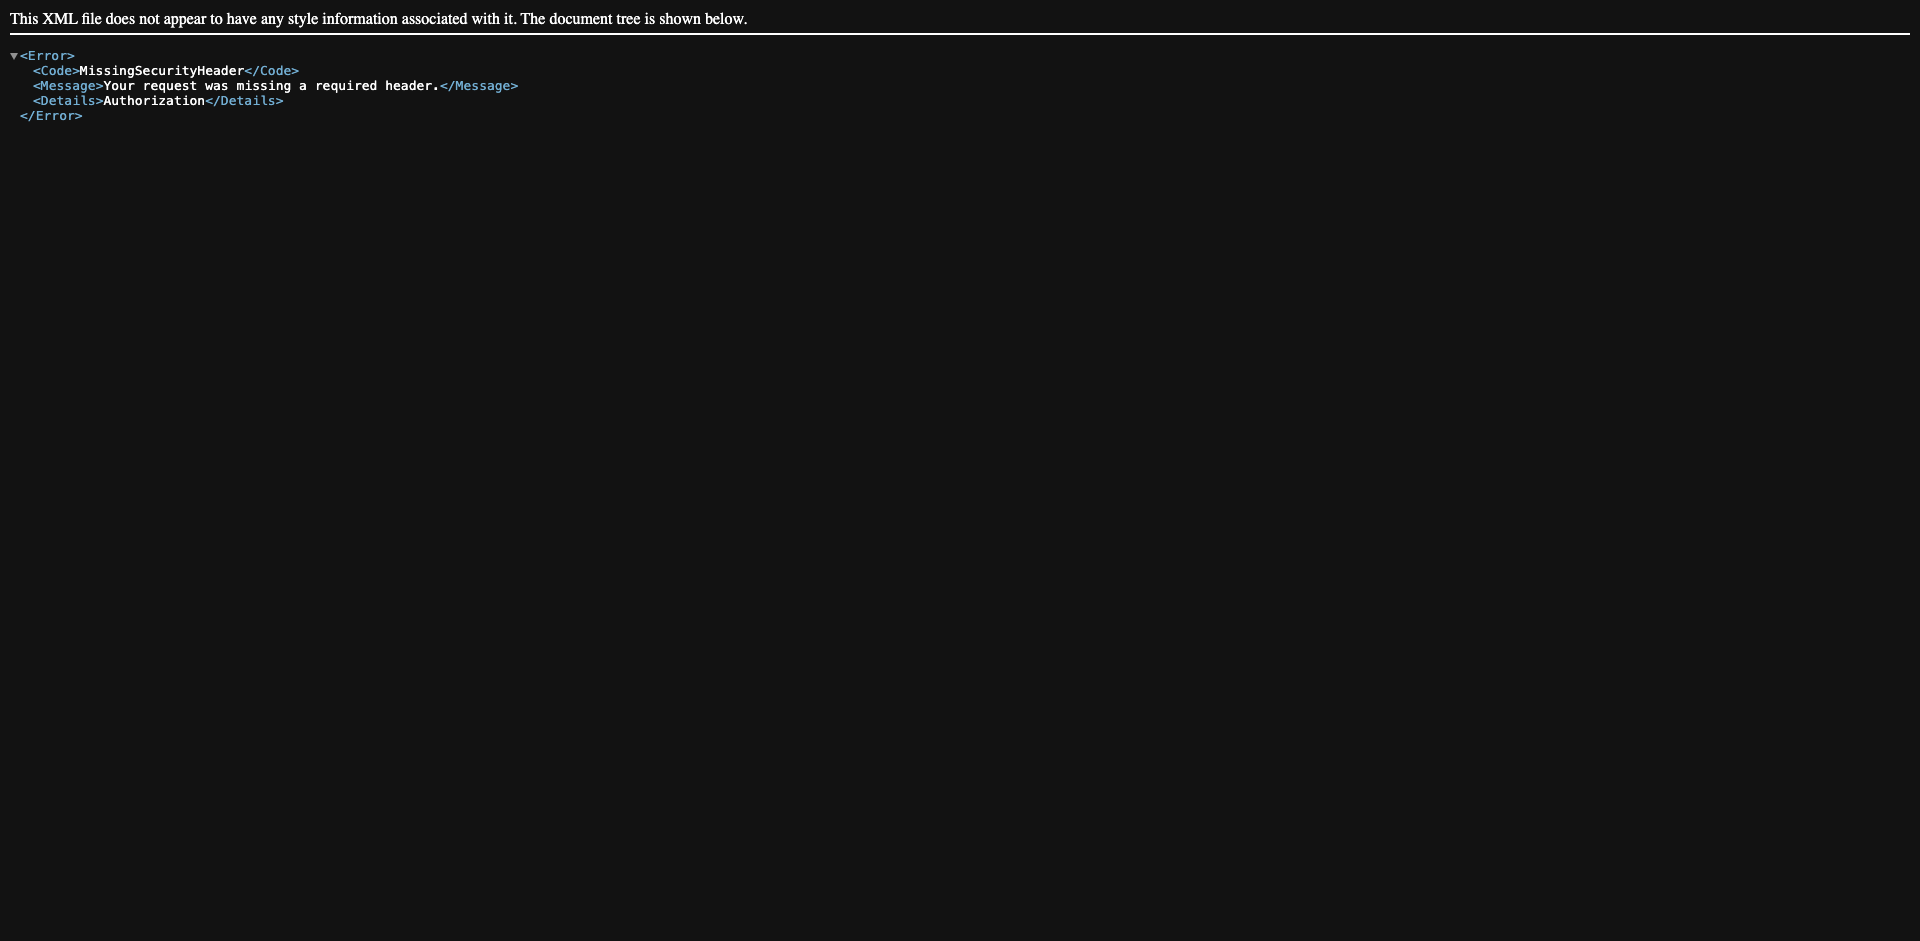button: (10, 53, 20, 62)
